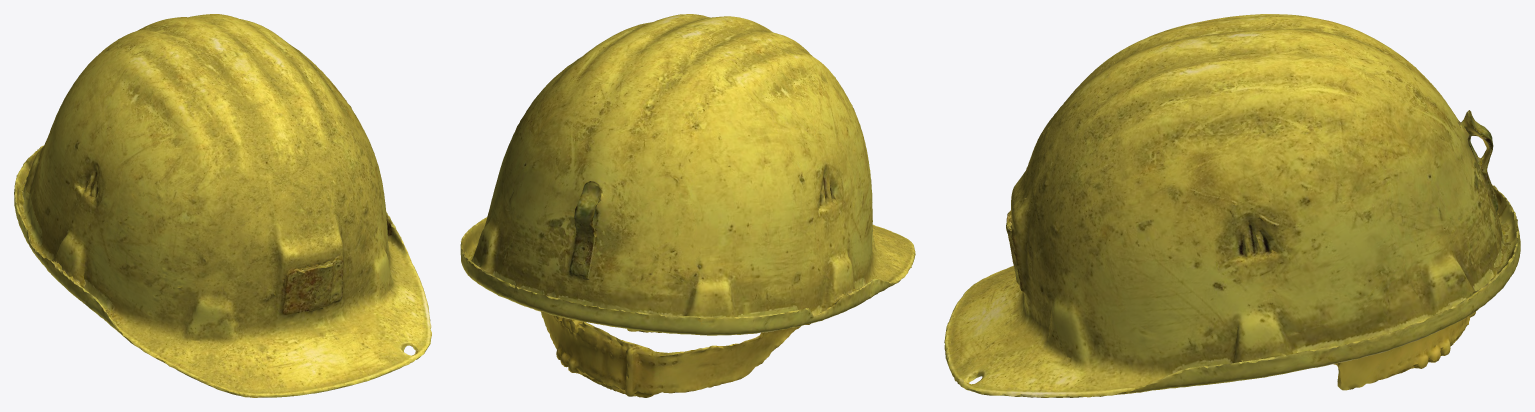
The model's file is correct_helmet.fbx.
3 views of the same model, side by side, from view 1: azimuth 30°, elevation 25°; view 2: azimuth 150°, elevation 25°; view 3: azimuth 270°, elevation 25° (orthographic). The views are drawn at different scales.
Parts seen in each view (by area): view 1: Correct_Helmet_baked; view 2: Correct_Helmet_baked; view 3: Correct_Helmet_baked.
Part boxes in pixels (x1,y1,x2,y2): Correct_Helmet_baked: (14,14,431,397); Correct_Helmet_baked: (460,14,915,397); Correct_Helmet_baked: (944,14,1520,397).
Size of the model in its own units: 22.43 by 17.53 by 29.53.
1 material, 1 textured.
